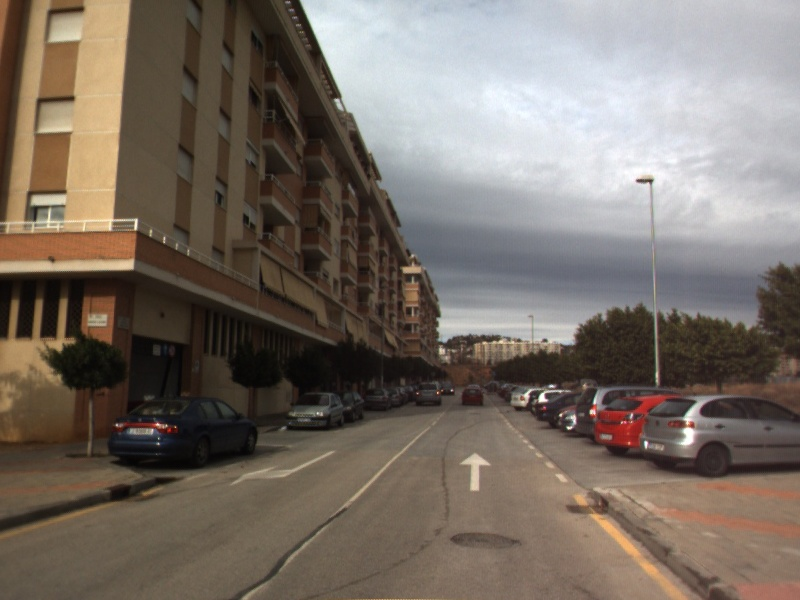STRAIGHT: (457, 450, 493, 493)
